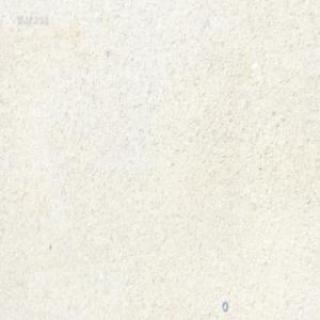Washertrack_idkeyframe: (220, 299, 227, 311)
